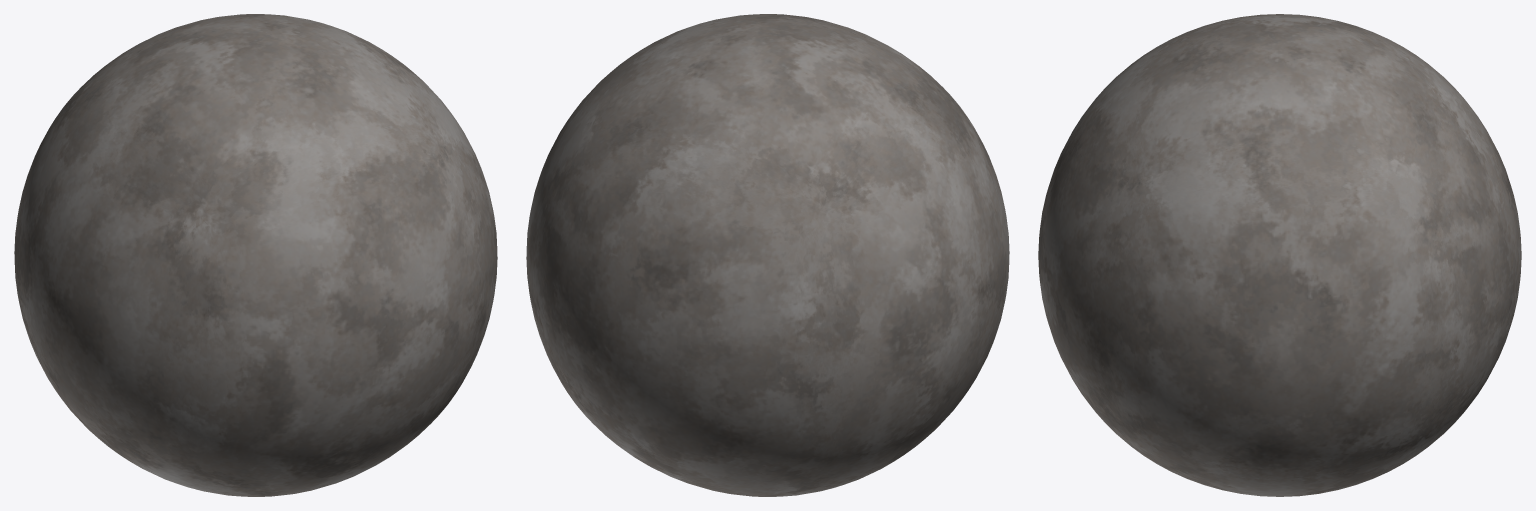
File: CannonBall.fbx
3 renders of one model, left to right at view 1: azimuth 30°, elevation 25°; view 2: azimuth 150°, elevation 25°; view 3: azimuth 270°, elevation 25°, orthographic.
Parts seen in each view (by area): view 1: Cube.002; view 2: Cube.002; view 3: Cube.002.
Boxes of the visible parts, x1,y1,x2,y2 form: Cube.002: [14, 14, 497, 496]; Cube.002: [526, 14, 1009, 496]; Cube.002: [1038, 14, 1521, 496].
Bounding box in the file's own units: 62.7 × 62.7 × 62.7.
Materials: 1 (1 with a texture image).
